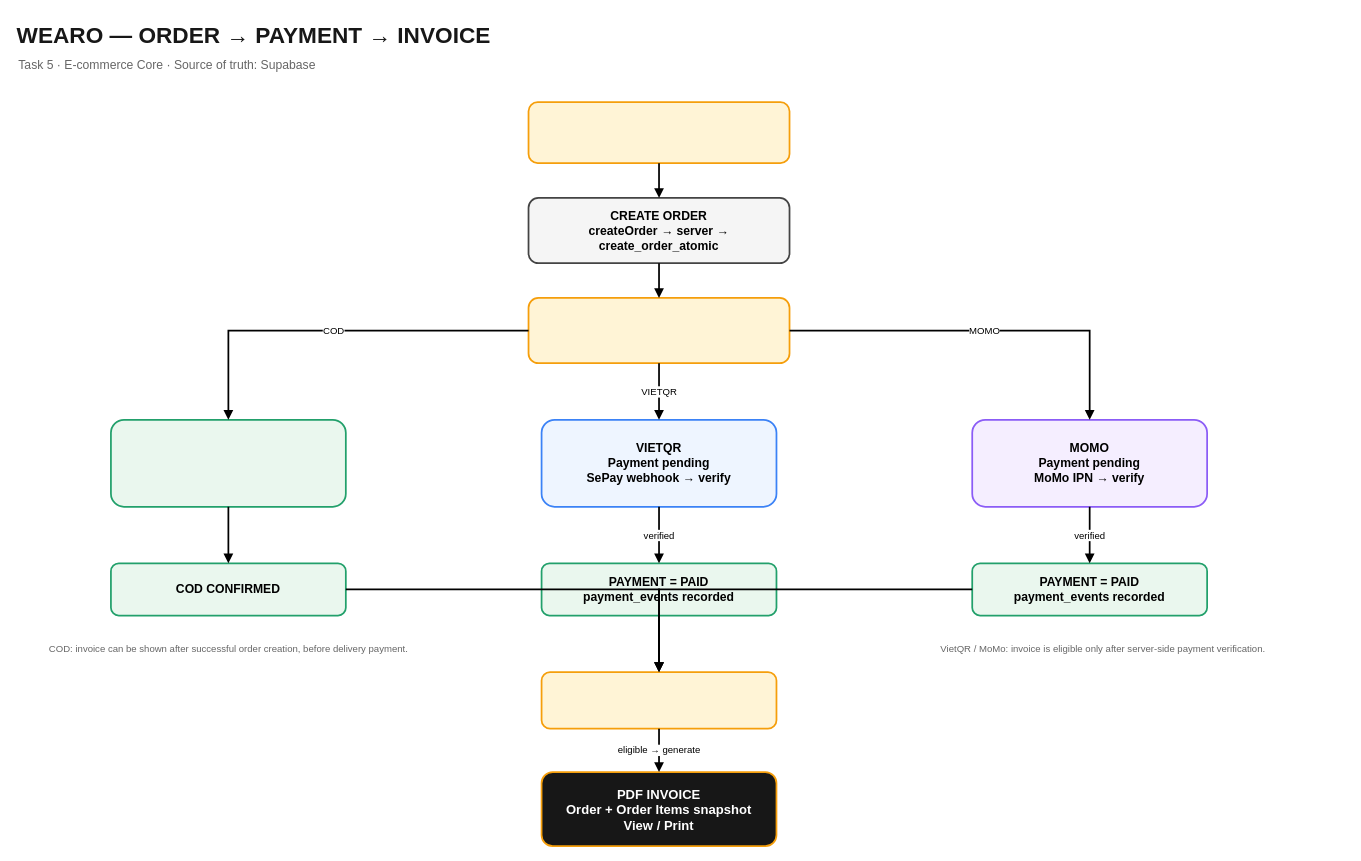
The diagram is 1361 pixels wide and 861 high, and some of its shapes have lost their labels. The shapes that lost their labels are listed below. From the top down, each one's centre as x and y in pixels, then its label:
At (658,132): "CHECKOUT Customer + cart + payment method".
At (658,330): "ORDER order_status + payment_status".
At (228,462): "COD Order accepted Payment collected on delivery".
At (658,700): "ORDER CONFIRMED".
